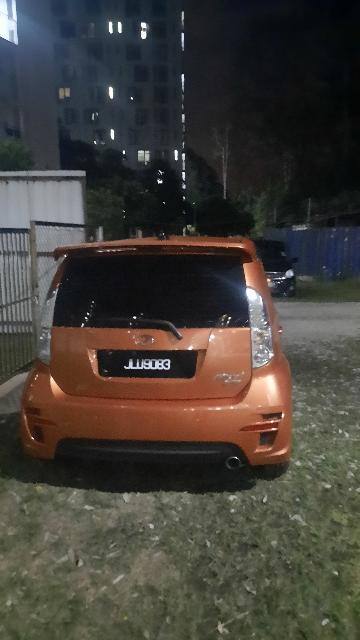License_Plate: (94, 345, 200, 380)
car: (21, 237, 294, 477)
